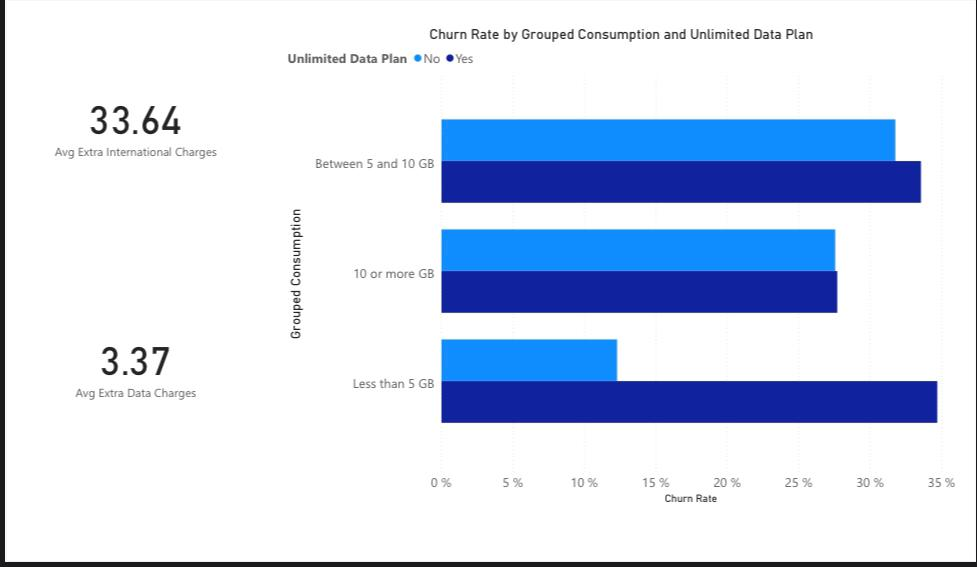

This screenshot's page, from the dashboard's own definition file:
{"tool":"powerbi","page":{"name":"Extra Charges","canvas":[1280,720],"ordinal":8},"visuals":[{"type":"clusteredBarChart","fields":{"Category":["Databel - Data.Grouped Consumption"],"Y":["Databel - Data.Churn Rate"],"Series":["Databel - Data.Unlimited Data Plan"]},"box":[357.3,10.9,922.7,658.6],"z":0},{"type":"card","fields":{"Values":["Databel - Data.Avg Extra International Charges"]},"box":[0,10.7,309.3,264.9],"z":1000},{"type":"card","fields":{"Values":["Databel - Data.Avg Extra Data Charges"]},"box":[0,276,309,394],"z":2000}]}

Visuals, with their boxes on the page's 1280x720 design canvas (x1, y1, x2, y2). These are canvas units, not pixel positions in the 977x567 screenshot, which may show the page scaled, cropped or inside an application window:
clusteredBarChart - Databel - Data.Grouped Consumption x Databel - Data.Churn Rate: detection(357, 11, 1280, 670)
card - Databel - Data.Avg Extra International Charges: detection(0, 11, 309, 276)
card - Databel - Data.Avg Extra Data Charges: detection(0, 276, 309, 670)
